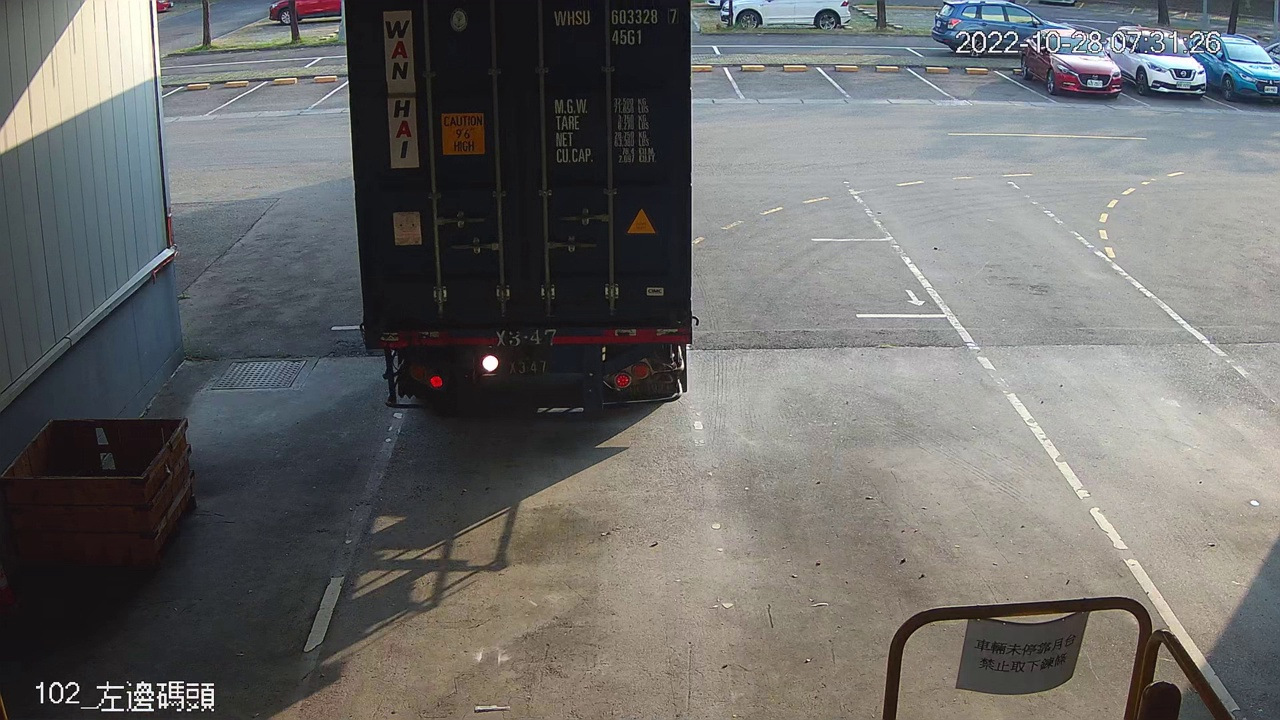container: (549, 4, 683, 50)
